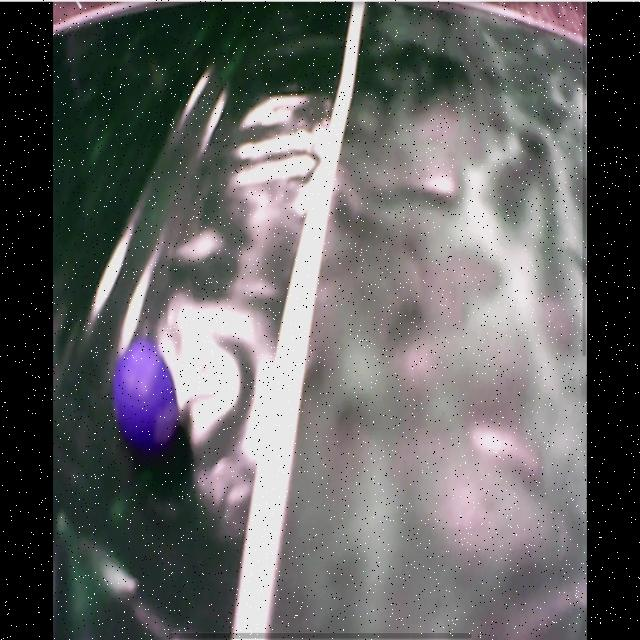ball: (111, 342, 178, 452)
